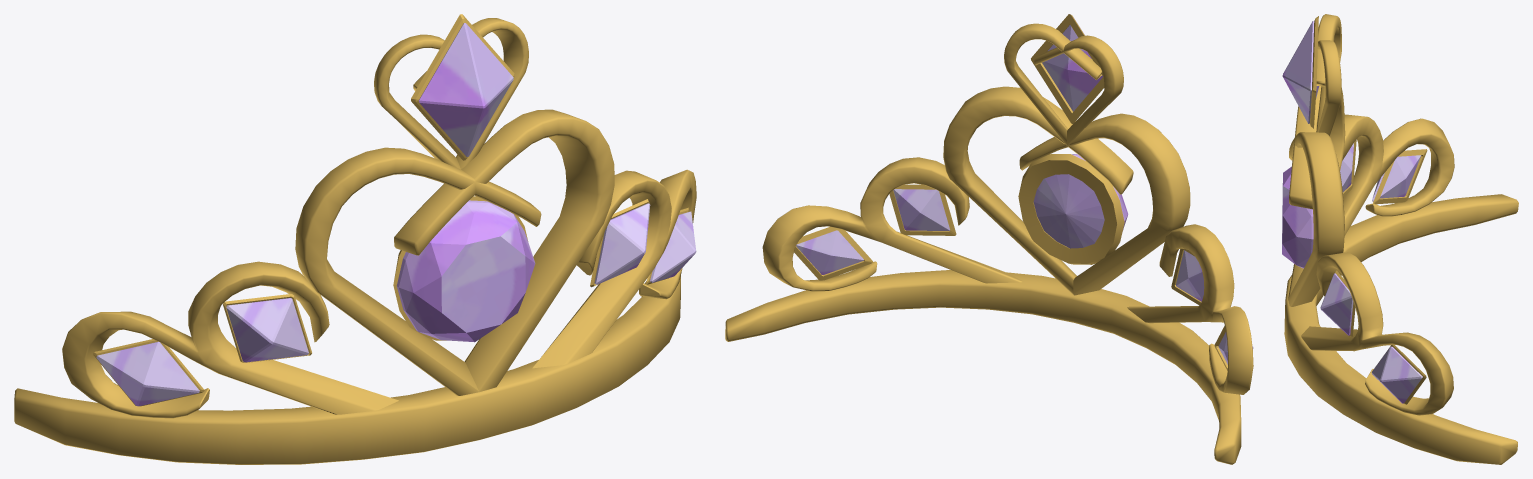
File: pm0025_00_Rig.fbx
The picture shows the model from 3 angles, left to right: view 1: azimuth 30°, elevation 25°; view 2: azimuth 150°, elevation 25°; view 3: azimuth 270°, elevation 25°; orthographic projection. The views are drawn at different scales.
Parts seen in each view (by area): view 1: doodad_gofest_2023_tiaragoldSkin, doodad_gofest_2023_tiarastoneSkin; view 2: doodad_gofest_2023_tiaragoldSkin, doodad_gofest_2023_tiarastoneSkin; view 3: doodad_gofest_2023_tiaragoldSkin, doodad_gofest_2023_tiarastoneSkin.
Boxes of the visible parts, box(x1,y1,x2,y2) form: doodad_gofest_2023_tiaragoldSkin: box(14, 14, 696, 464); doodad_gofest_2023_tiarastoneSkin: box(96, 23, 696, 406); doodad_gofest_2023_tiaragoldSkin: box(725, 14, 1253, 464); doodad_gofest_2023_tiarastoneSkin: box(796, 17, 1253, 364); doodad_gofest_2023_tiaragoldSkin: box(1284, 14, 1518, 464); doodad_gofest_2023_tiarastoneSkin: box(1282, 21, 1422, 403).
Bounding box in the file's own units: 0.1055 × 0.0647 × 0.0422.
